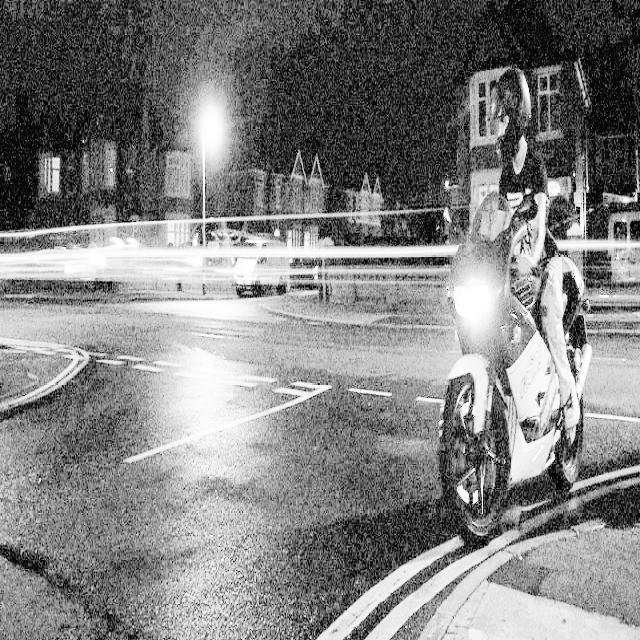Car: (233, 233, 291, 297)
Motorcycle: (420, 191, 607, 562)
Person: (486, 59, 594, 447)
